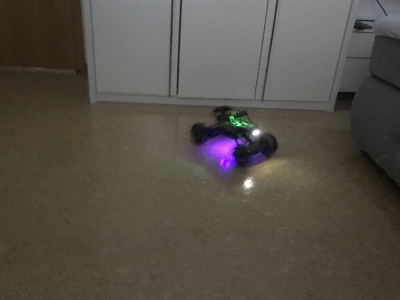remote control car: (187, 101, 279, 168)
